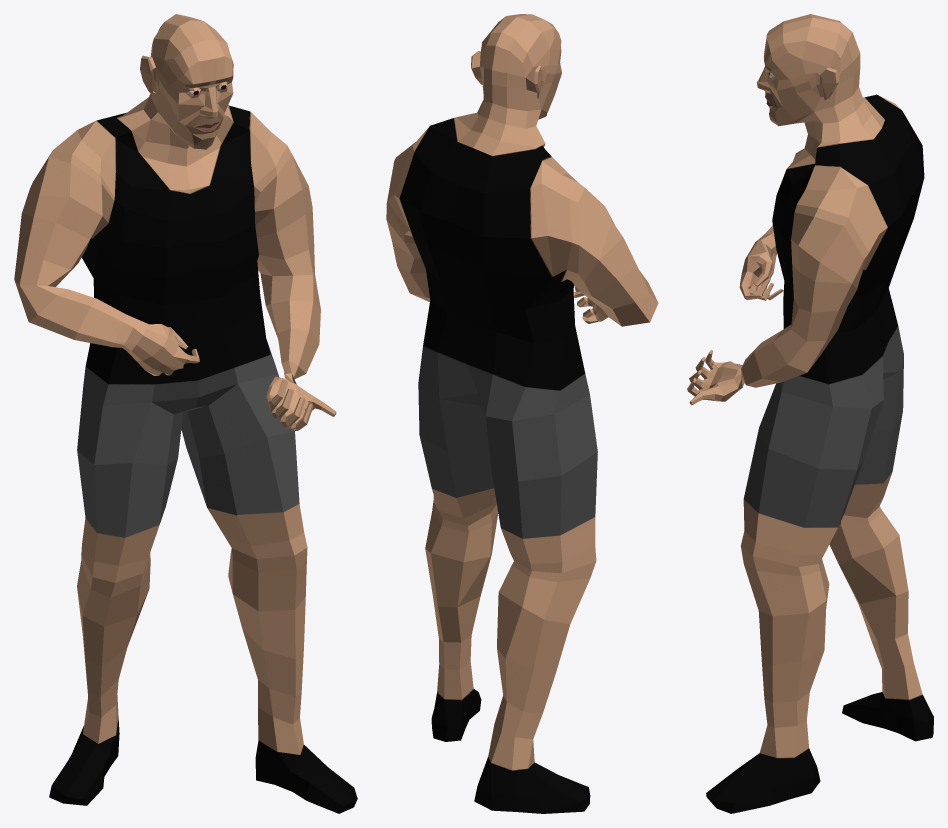
File: PlayerIdle(224).obj
3 views of the same model, side by side, from view 1: azimuth 30°, elevation 25°; view 2: azimuth 150°, elevation 25°; view 3: azimuth 270°, elevation 25° (orthographic). The views are drawn at different scales.
Visible parts, largest first — view 1: Plane002; view 2: Plane002; view 3: Plane002.
Part boxes in pixels (x1=…): Plane002: x1=14, y1=14, x2=357, y2=813; Plane002: x1=386, y1=14, x2=658, y2=813; Plane002: x1=687, y1=14, x2=933, y2=813.
Bounding box in the file's own units: 677 × 1803 × 546.
